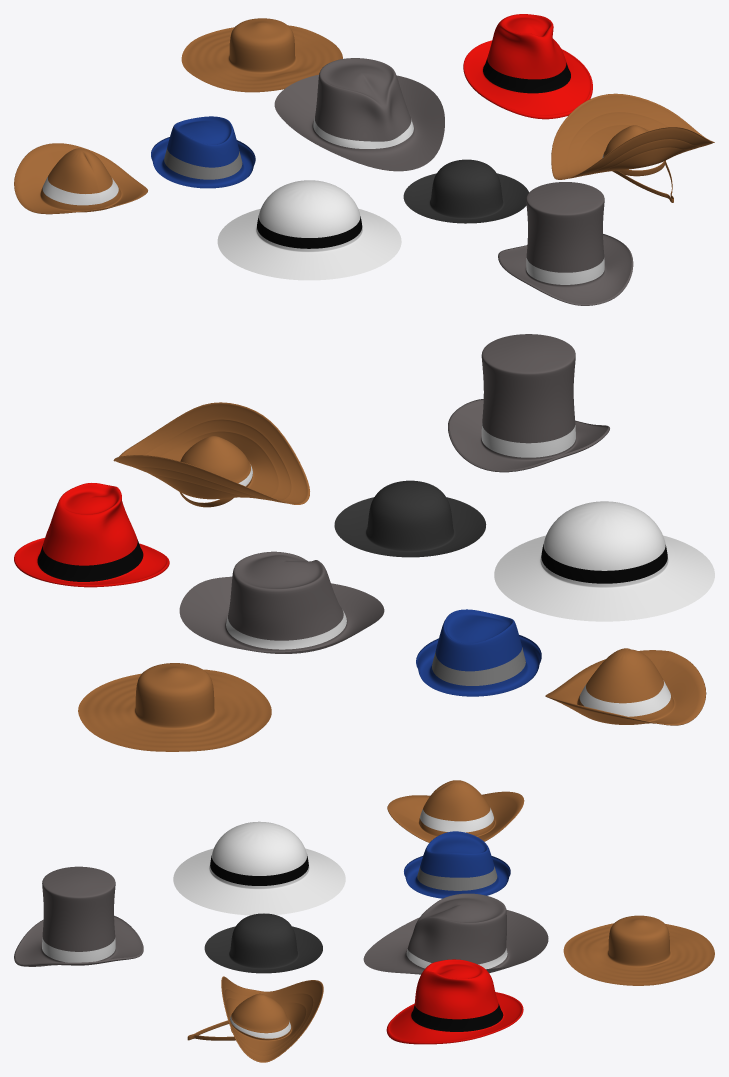
File: HatsFBX.fbx
The picture shows the model from 3 angles, top to bottom: view 1: azimuth 30°, elevation 25°; view 2: azimuth 150°, elevation 25°; view 3: azimuth 270°, elevation 25°; orthographic projection. The views are drawn at different scales.
Parts seen in each view (by area): view 1: Cylinder, Cylinder.007, Cylinder.005, Cylinder.008, Cylinder.001, Cylinder.003, Cylinder.006, Cylinder.004, Cylinder.002; view 2: Cylinder.007, Cylinder.005, Cylinder, Cylinder.008, Cylinder.003, Cylinder.001, Cylinder.006, Cylinder.004, Cylinder.002; view 3: Cylinder.007, Cylinder, Cylinder.005, Cylinder.003, Cylinder.001, Cylinder.008, Cylinder.006, Cylinder.004, Cylinder.002.
Boxes of the visible parts, x1,y1,x2,y2 form: Cylinder: (274,58,444,171); Cylinder.007: (217,180,401,280); Cylinder.005: (498,182,633,305); Cylinder.008: (551,93,714,202); Cylinder.001: (463,14,592,119); Cylinder.003: (181,18,342,92); Cylinder.006: (14,143,147,214); Cylinder.004: (403,159,528,223); Cylinder.002: (151,116,255,188); Cylinder.007: (494,501,714,621); Cylinder.005: (448,334,609,472); Cylinder: (179,551,384,653); Cylinder.008: (113,402,309,507); Cylinder.003: (78,663,271,751); Cylinder.001: (14,483,169,587); Cylinder.006: (545,648,706,725); Cylinder.004: (334,480,486,557); Cylinder.002: (416,609,541,696); Cylinder.007: (173,821,345,915); Cylinder: (363,893,548,974); Cylinder.005: (14,866,143,966); Cylinder.003: (563,915,714,985); Cylinder.001: (386,959,523,1044); Cylinder.008: (187,976,323,1062); Cylinder.006: (387,780,524,842); Cylinder.004: (204,913,322,973); Cylinder.002: (404,831,510,898).
Size of the model in its own units: 875 by 131 by 973.
